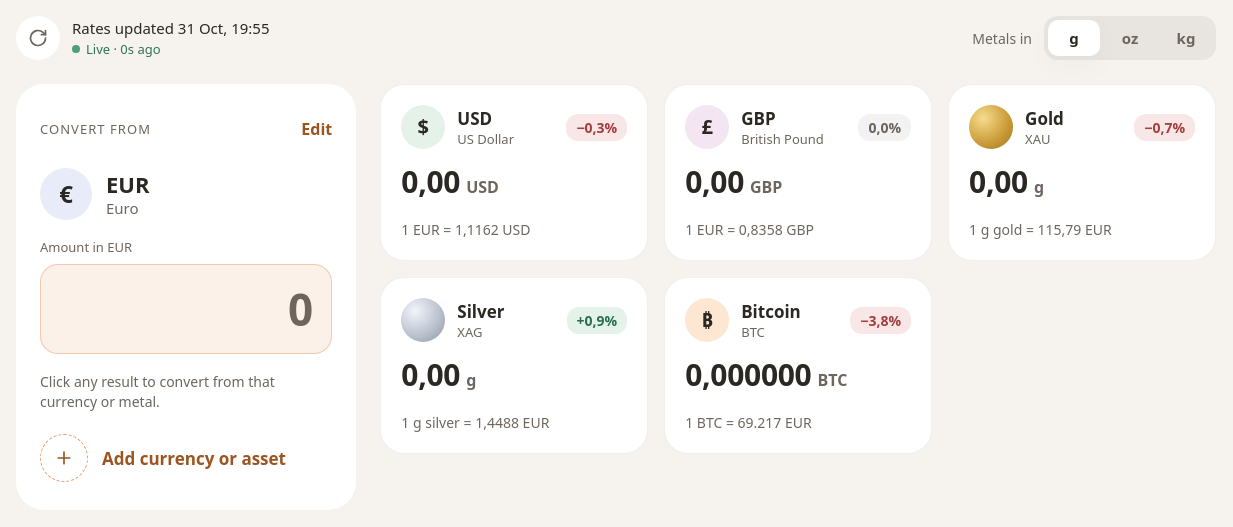
Test: App amount input formatting (SPEC §12) › accepts English-style paste but shows Dutch notation
Type "1,234.56" into the field labelled "Amount in EUR".
click(186, 309); type("1,234.56")  # box 40,264 -> 332,354
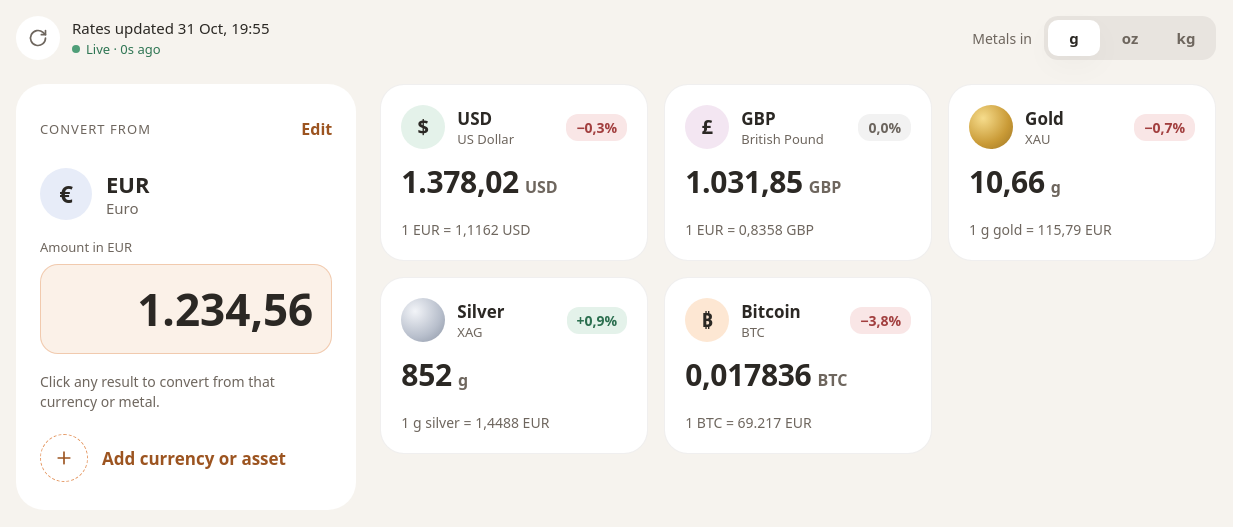
Expected: the field labelled "Amount in EUR" holds "1.234,56", 40,264 -> 332,354
